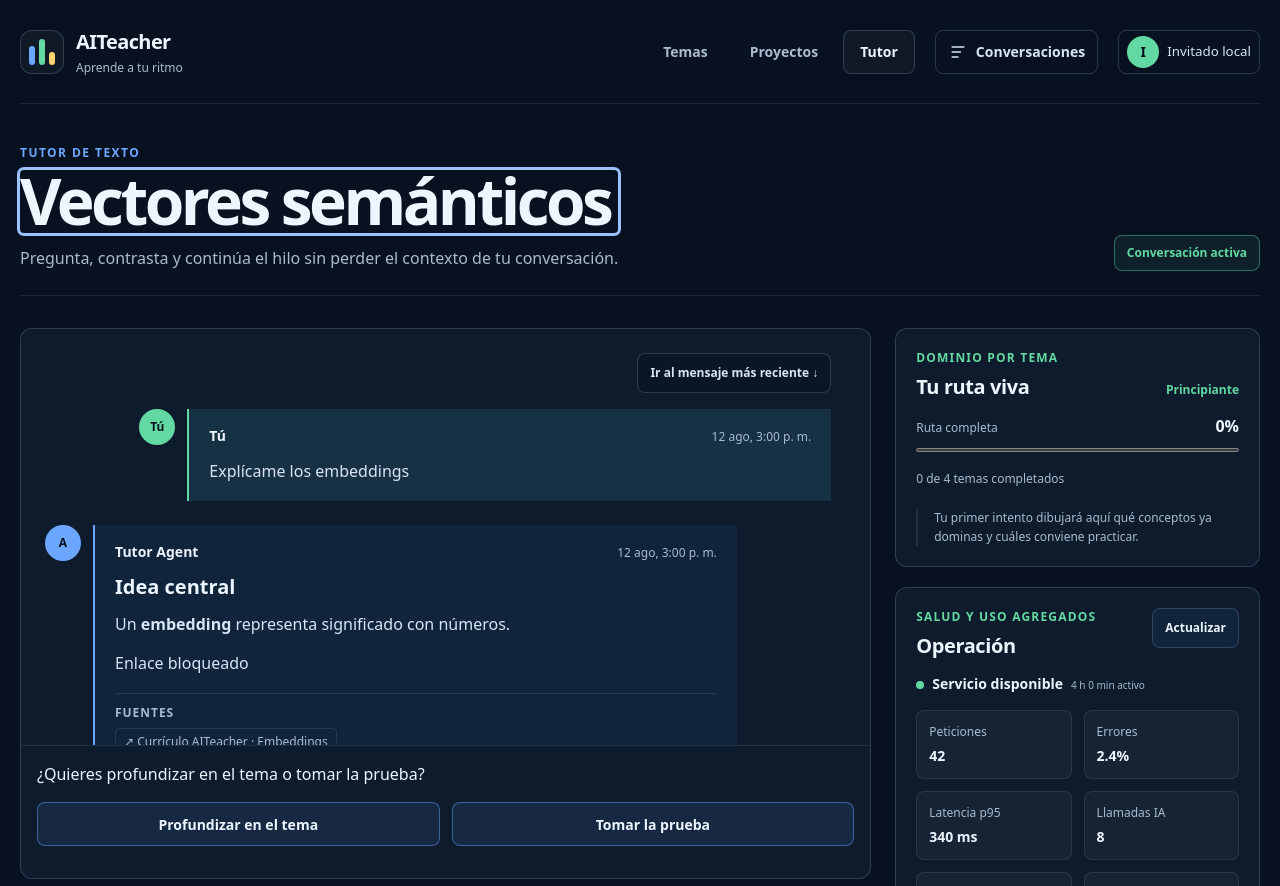
TutorScreen › reanuda la práctica pendiente después de restaurar la conversación
Click the button "Tomar la prueba" at (653, 824), box [452,802,854,846]
(page scrolled)
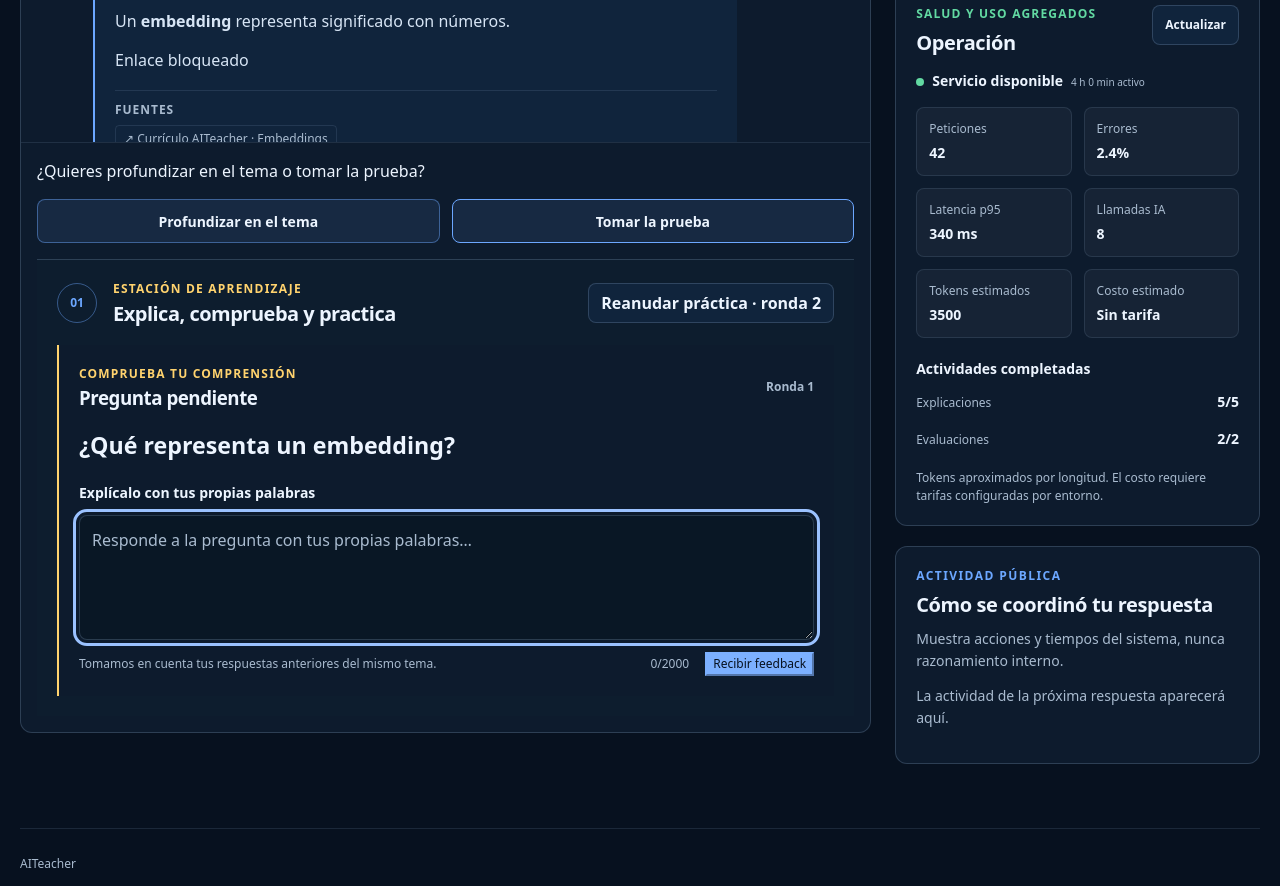
Click the button "Reanudar práctica · ronda 2" at (711, 303), box [588,283,834,323]
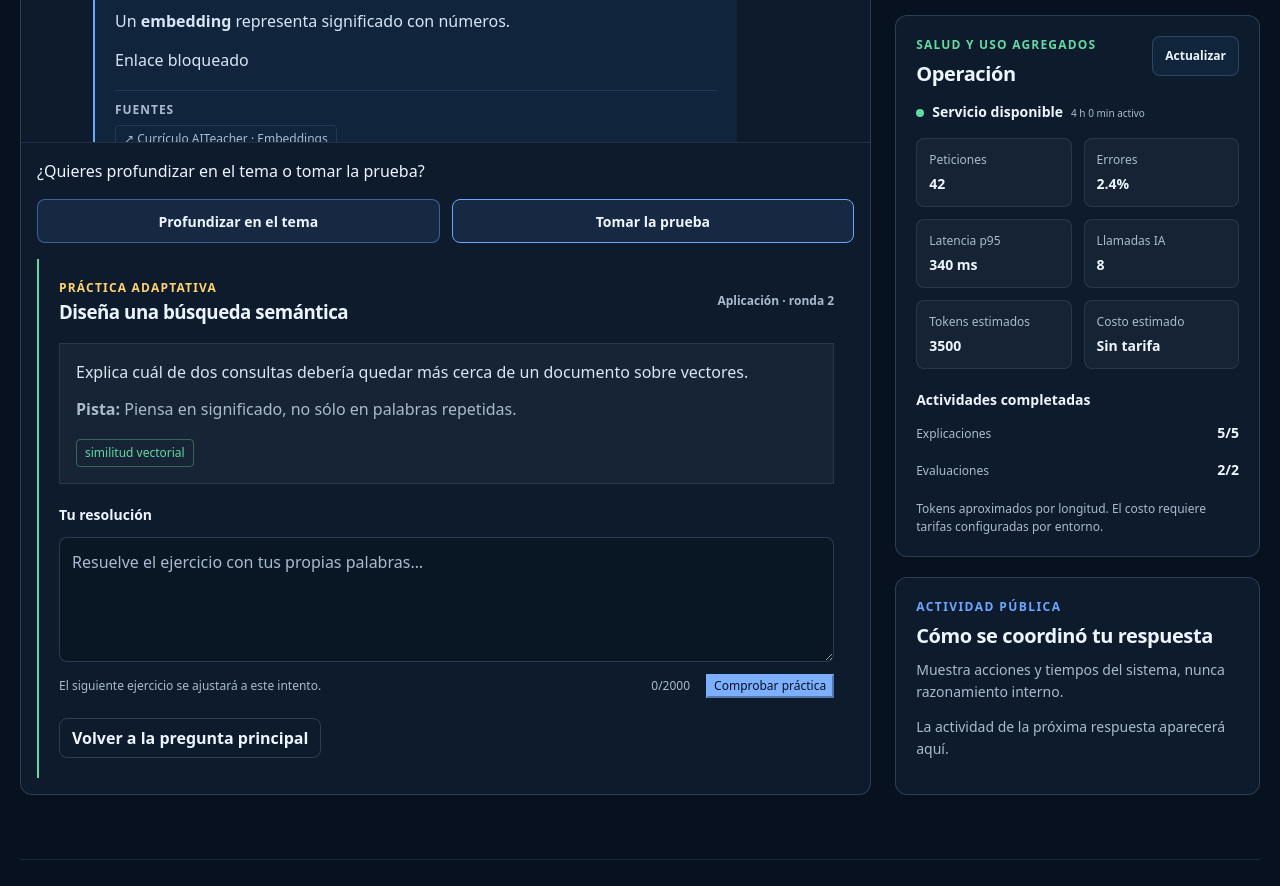
Now the heading "Diseña una búsqueda semántica" is shown, box [59,301,348,323]
Now the text box labelled "Tu resolución" is shown, box [59,537,834,662]
